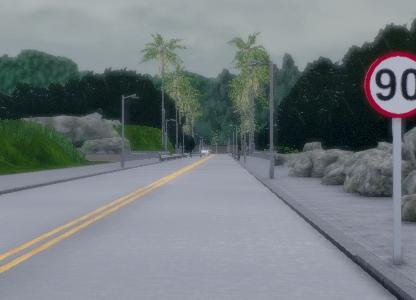Speed_90: (363, 48, 416, 119)
